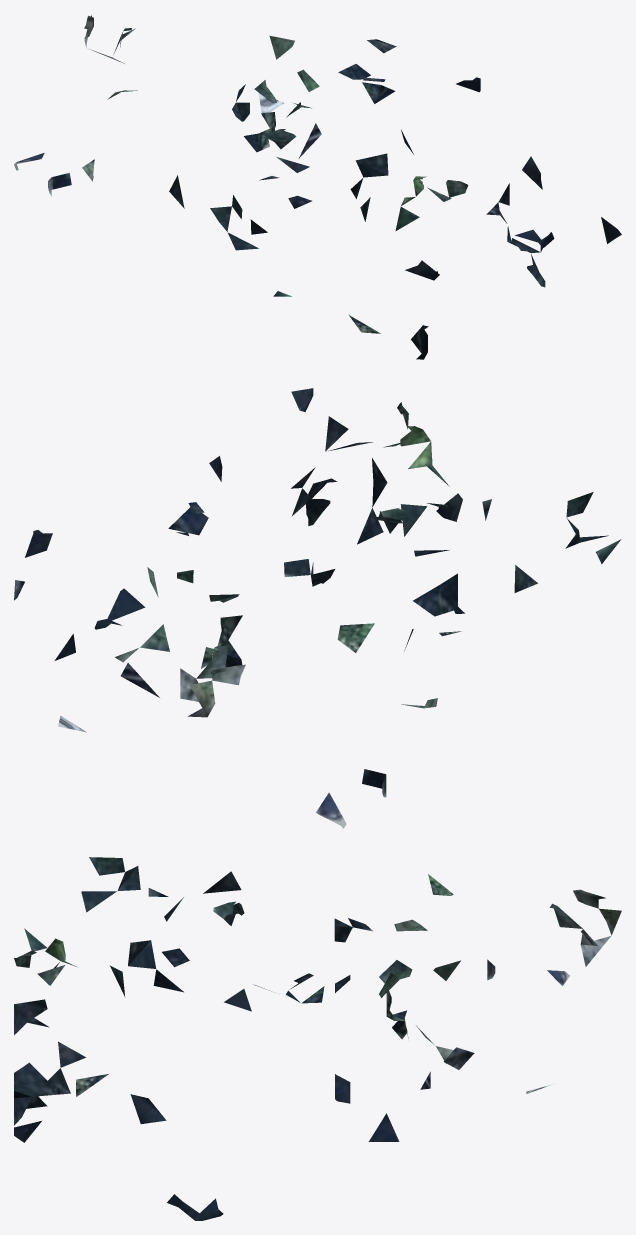
3 renders of one model, top to bottom at view 1: azimuth 30°, elevation 25°; view 2: azimuth 150°, elevation 25°; view 3: azimuth 270°, elevation 25°, orthographic. The views are drawn at different scales.
Visible parts, largest first — view 1: 30436272704361517611_1; view 2: 30436272704361517611_1; view 3: 30436272704361517611_1.
Part boxes in pixels (left/top/right/bottom): 30436272704361517611_1: left=14, top=15, right=621, bottom=359; 30436272704361517611_1: left=14, top=388, right=621, bottom=828; 30436272704361517611_1: left=14, top=857, right=621, bottom=1220.
Size of the model in its own units: 27.32 by 11.87 by 36.25.
1 material, 1 textured.
